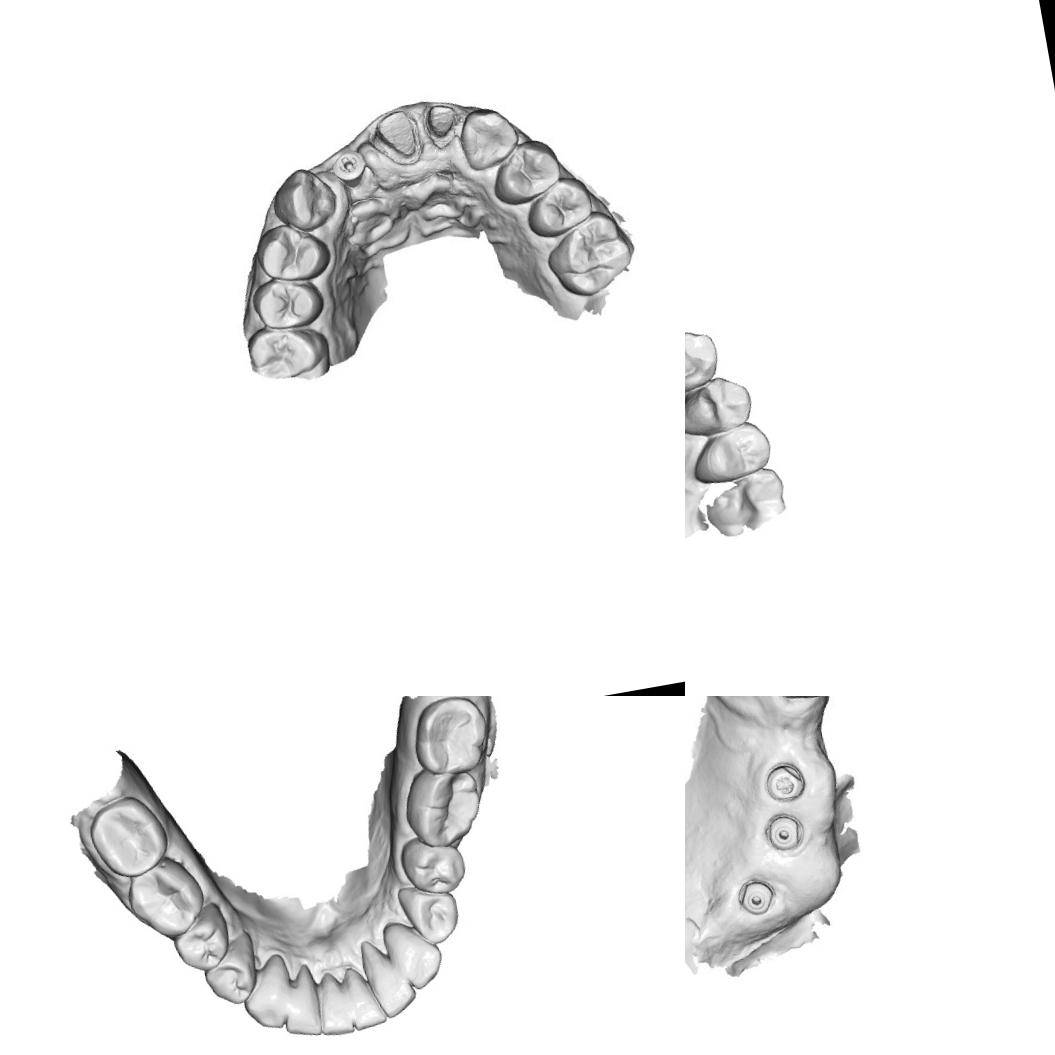canine: (380, 914, 446, 993), (270, 164, 342, 236), (235, 952, 298, 1034), (452, 101, 520, 174), (685, 324, 727, 397)
crown: (369, 101, 425, 166), (421, 93, 465, 145)
implant: (762, 759, 812, 808), (730, 875, 780, 920), (765, 808, 807, 851)
implant_minus: (330, 144, 369, 184)
incisor: (358, 932, 420, 1021), (273, 962, 324, 1040), (341, 961, 388, 1031), (310, 968, 355, 1038)
molar: (538, 202, 644, 301), (81, 788, 174, 884), (397, 758, 488, 852), (121, 850, 209, 943), (405, 696, 493, 780), (699, 464, 793, 542), (242, 318, 333, 390)
premolar: (685, 416, 777, 487), (249, 212, 328, 290), (685, 368, 758, 444), (489, 133, 566, 204), (196, 928, 262, 1009), (166, 898, 234, 976), (396, 828, 469, 900), (518, 171, 591, 242), (248, 268, 324, 336), (395, 877, 463, 949)
